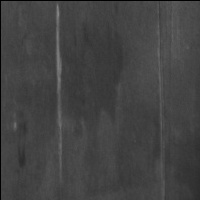scratches: (153, 23, 169, 200), (52, 4, 66, 172)
